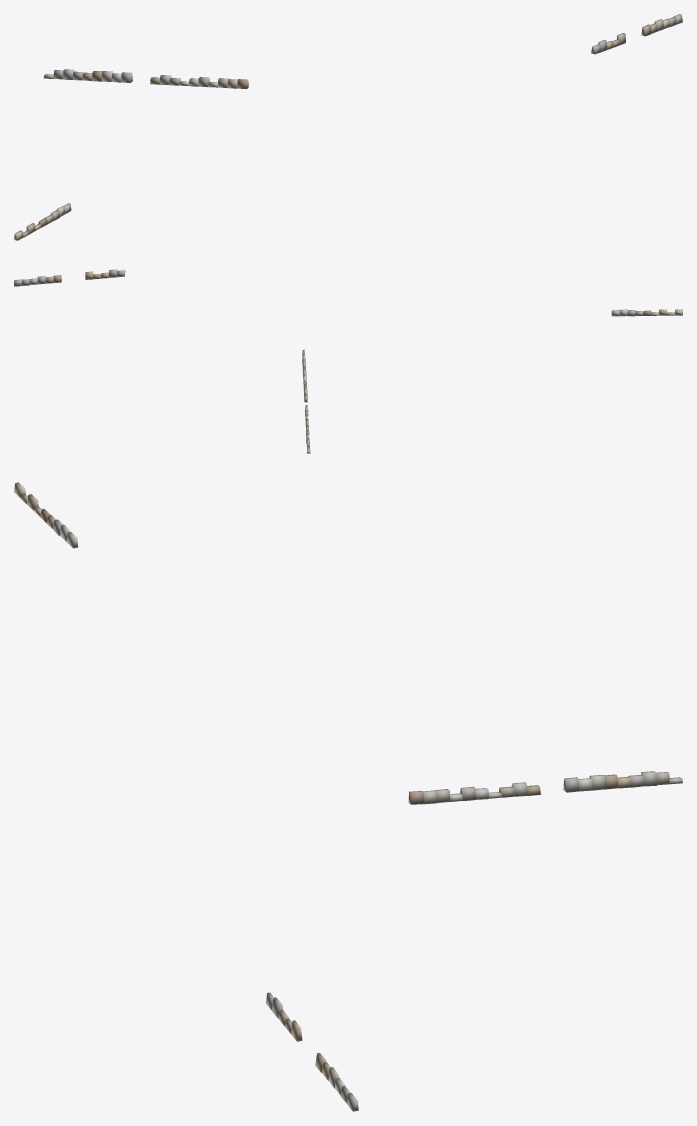
File: farm_-30_-32_far.glb
3 renders of one model, top to bottom at view 1: azimuth 30°, elevation 25°; view 2: azimuth 150°, elevation 25°; view 3: azimuth 270°, elevation 25°, orthographic. The views are drawn at different scales.
Parts seen in each view (by area): view 1: geometry_0; view 2: geometry_0; view 3: geometry_0.
Part boxes in pixels (left/top/right/bottom): geometry_0: left=14, top=14, right=682, bottom=240; geometry_0: left=14, top=269, right=682, bottom=453; geometry_0: left=14, top=482, right=682, bottom=1111.
Bounding box in the file's own units: 132 × 13.63 × 70.17.
